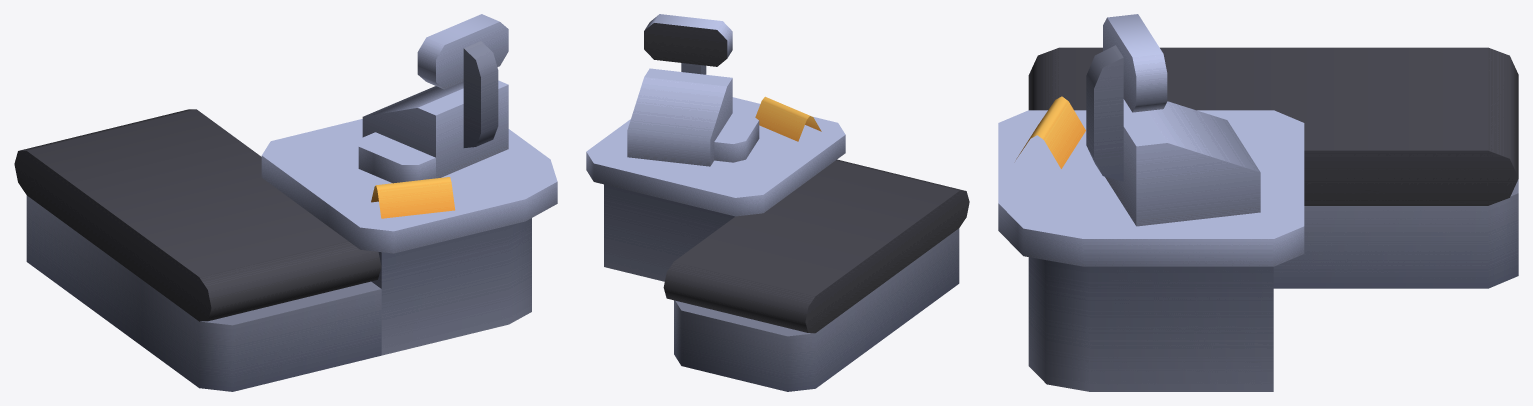
The model's file is cash-register_lev2.glb.
3 views of the same model, side by side, from view 1: azimuth 30°, elevation 25°; view 2: azimuth 150°, elevation 25°; view 3: azimuth 270°, elevation 25° (orthographic). The views are drawn at different scales.
Visible parts, largest first — view 1: cash-register_lev2; view 2: cash-register_lev2; view 3: cash-register_lev2.
Boxes of the visible parts, bbox=[...] form: cash-register_lev2: bbox=[14, 14, 557, 391]; cash-register_lev2: bbox=[586, 14, 969, 391]; cash-register_lev2: bbox=[998, 14, 1518, 391].
Bounding box in the file's own units: 3.42 × 2.39 × 3.43.
1 material, 1 textured.
